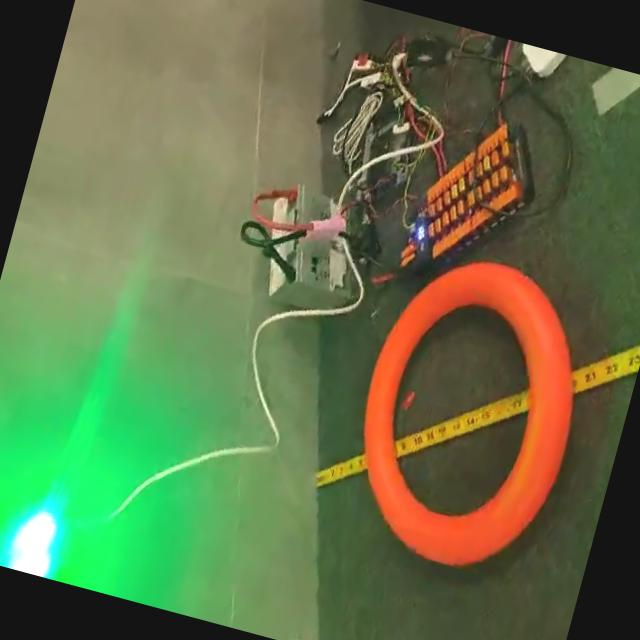note: (327, 238, 609, 588)
